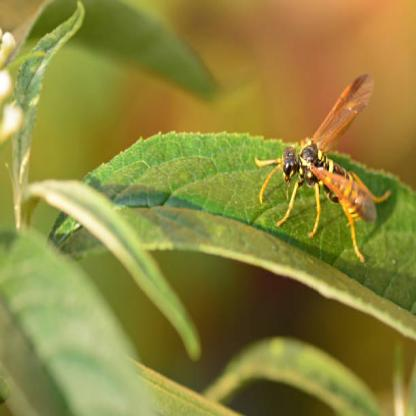sawfly: (256, 67, 392, 271)
